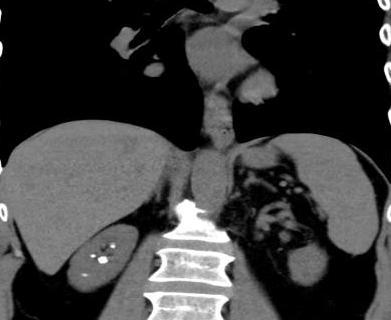Tas_Var: (96, 256, 111, 264), (80, 272, 90, 278), (108, 244, 117, 250), (88, 254, 98, 258)
